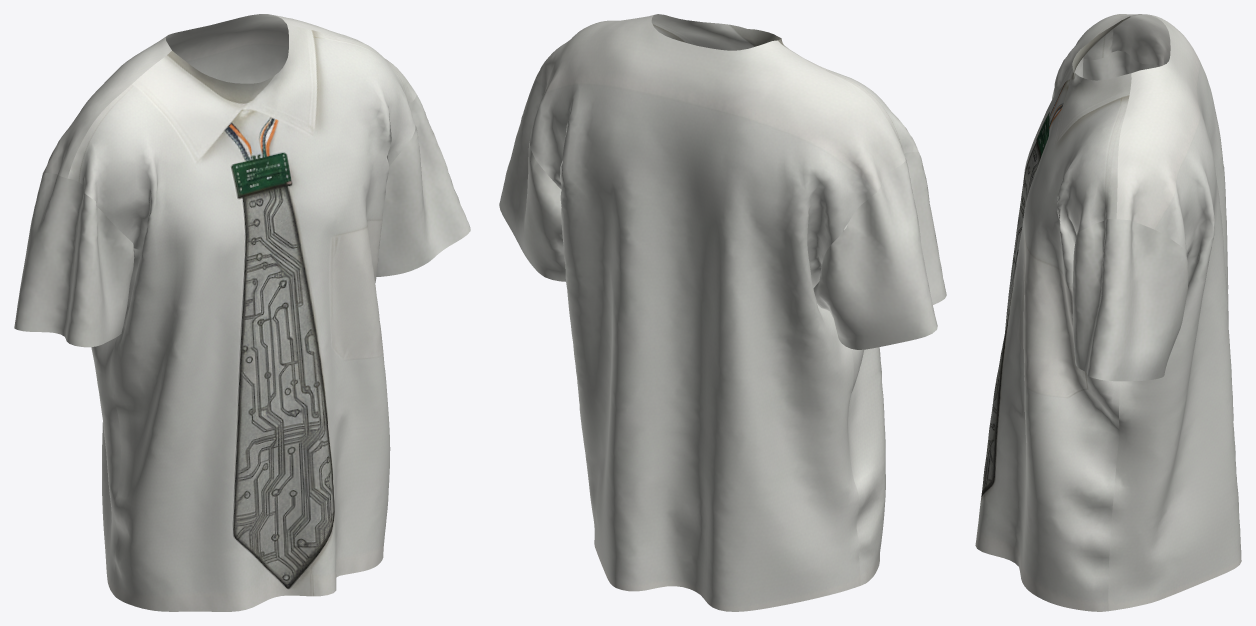
3 renders of one model, left to right at view 1: azimuth 30°, elevation 25°; view 2: azimuth 150°, elevation 25°; view 3: azimuth 270°, elevation 25°, orthographic. The views are drawn at different scales.
Visible parts, largest first — view 1: Clanker tokyo.003; view 2: Clanker tokyo.003; view 3: Clanker tokyo.003.
Part boxes in pixels (x1,y1,x2,y2): Clanker tokyo.003: (14, 14, 470, 611); Clanker tokyo.003: (499, 14, 946, 611); Clanker tokyo.003: (975, 14, 1241, 611).
Bounding box in the file's own units: 0.6357 × 0.7283 × 0.3433.
Materials: 1 (1 with a texture image).
